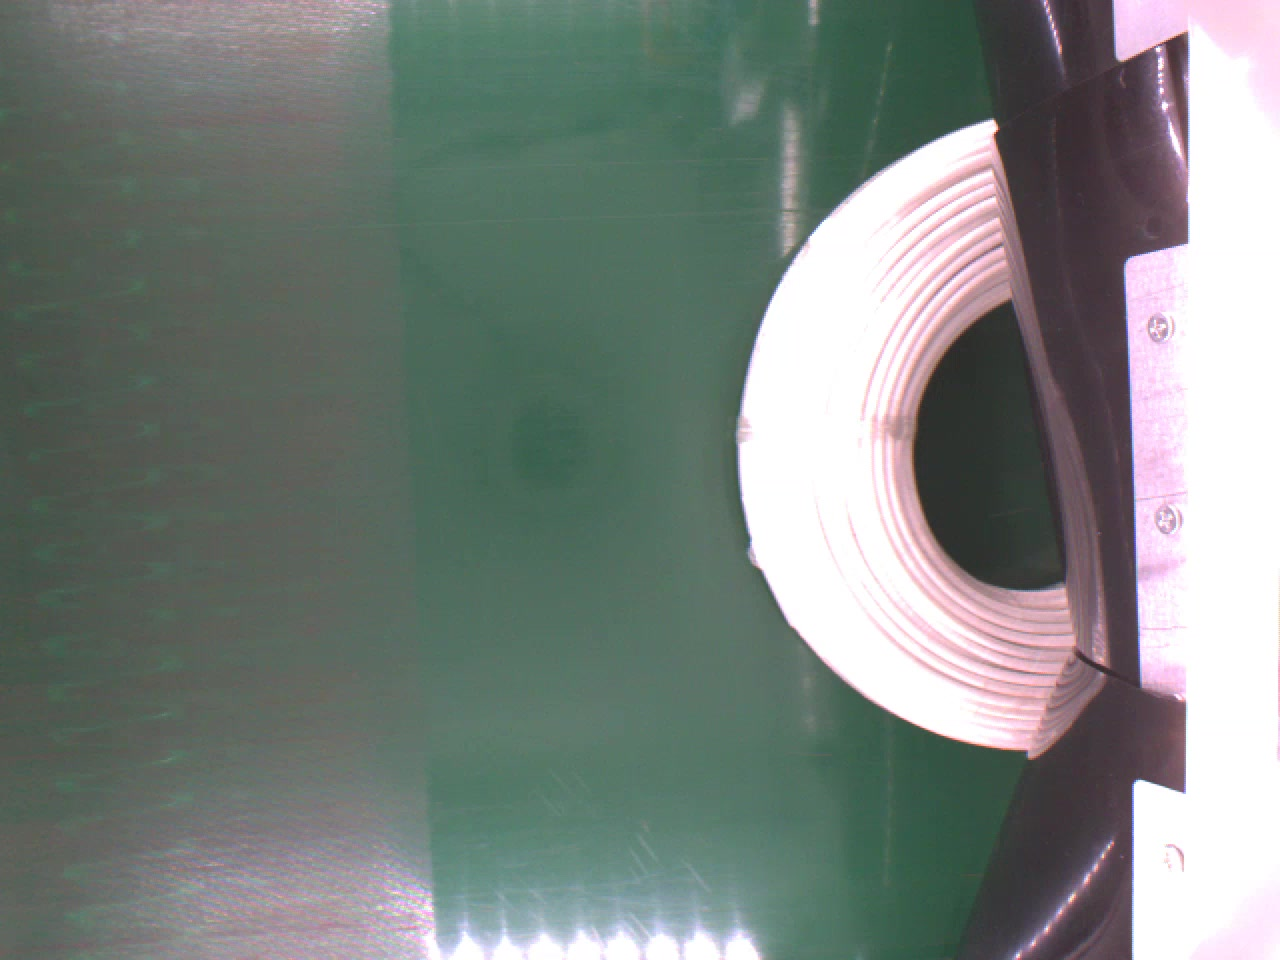white: (734, 120, 1075, 747)
